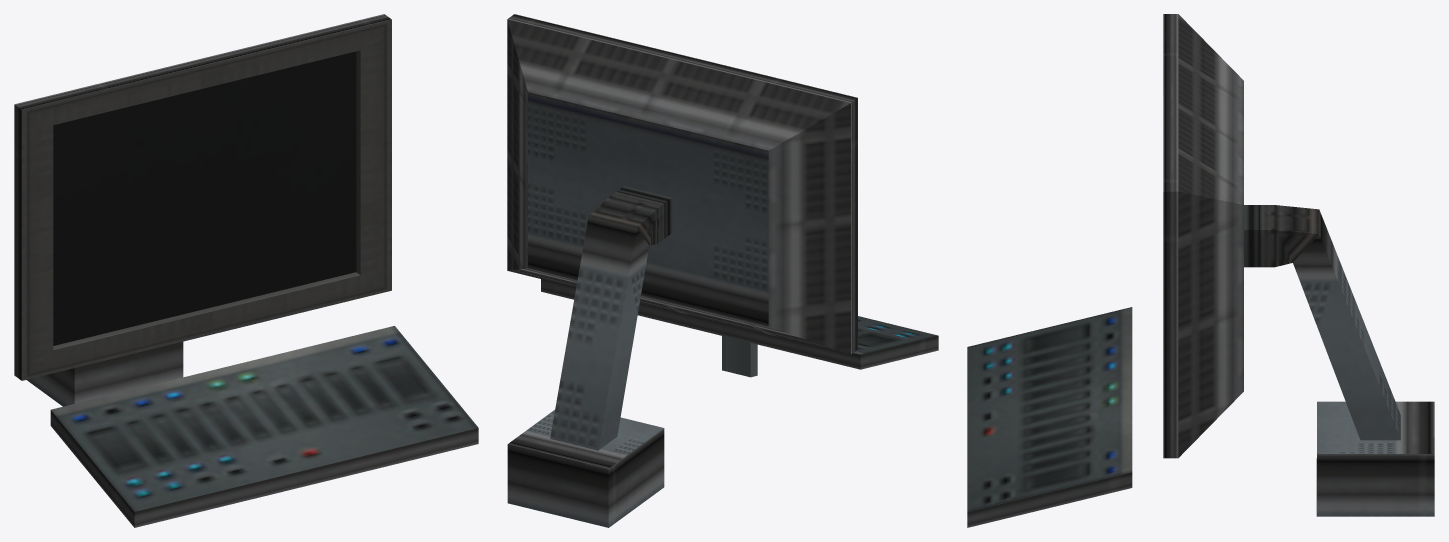
File: pc-mesa-desligado.fbx
3 views of the same model, side by side, from view 1: azimuth 30°, elevation 25°; view 2: azimuth 150°, elevation 25°; view 3: azimuth 270°, elevation 25° (orthographic). The views are drawn at different scales.
Parts seen in each view (by area): view 1: Cylinder.001; view 2: Cylinder.001; view 3: Cylinder.001.
Boxes of the visible parts, <box> form: Cylinder.001: <box>14,14,478,527</box>; Cylinder.001: <box>507,14,938,527</box>; Cylinder.001: <box>967,14,1434,527</box>.
Bounding box in the file's own units: 0.905 × 0.921 × 1.01.
